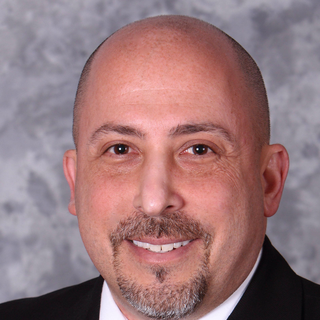eye: (169, 132, 232, 177), (87, 134, 152, 167)
